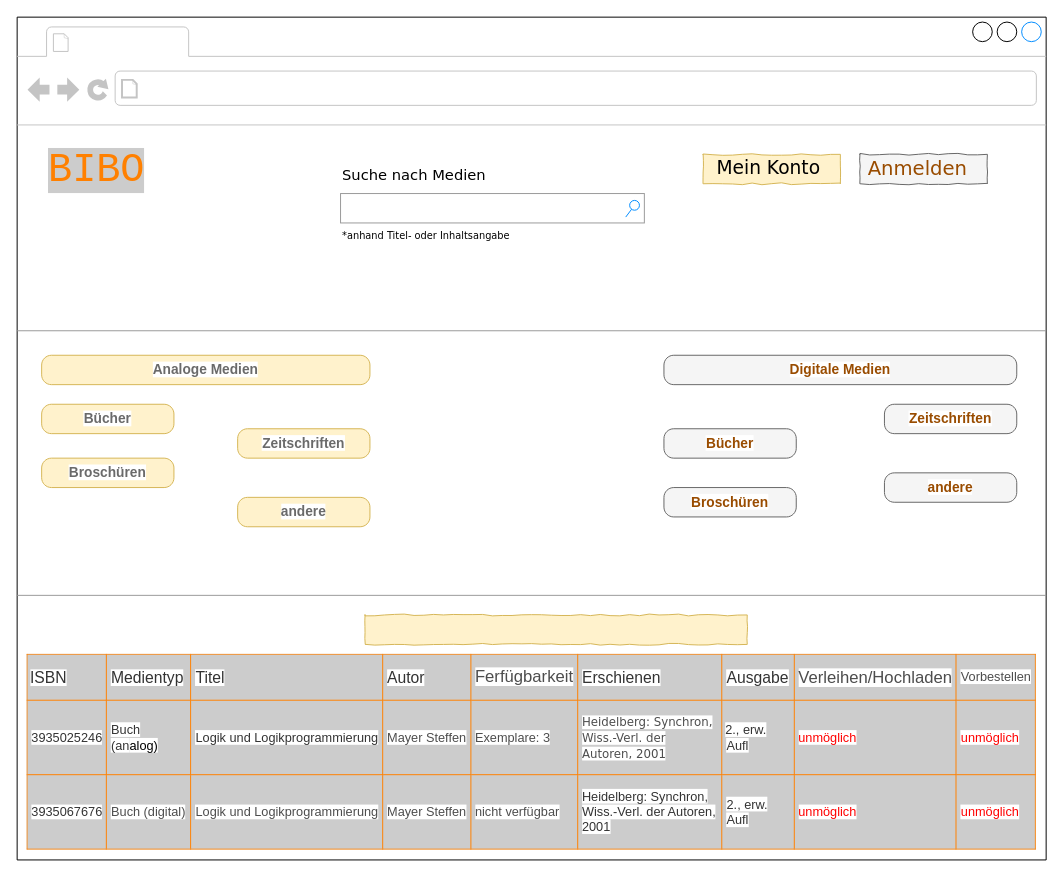
The diagram is 1063 pixels wide and 877 high, and some of its shapes have lost their labels. The shapes that lost their labels are listed below. From the top down, each one's centre as x and y in pixels, then its label:
the point at 129,41: Page 1
the point at 267,88: https://www.bibo.de
the point at 492,208: Logik und Logikprog r аmmierung
the point at 555,629: Suchresultate für Logik und Logikprogrаmmierung
